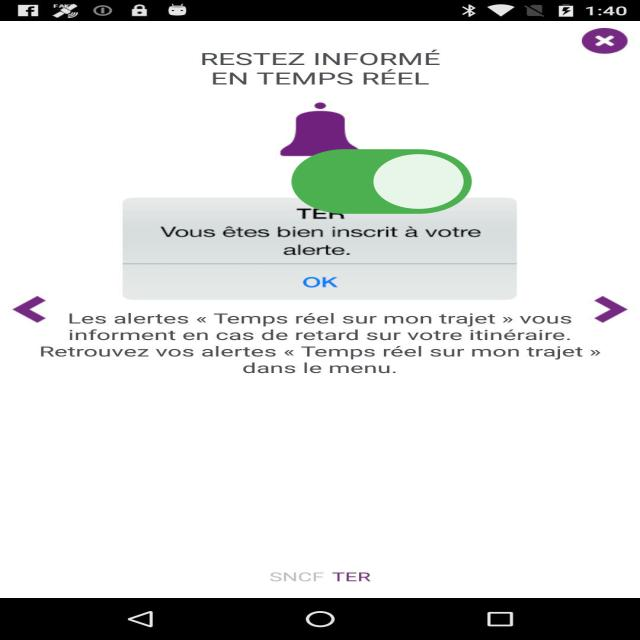social proof: (283, 124, 480, 244)
